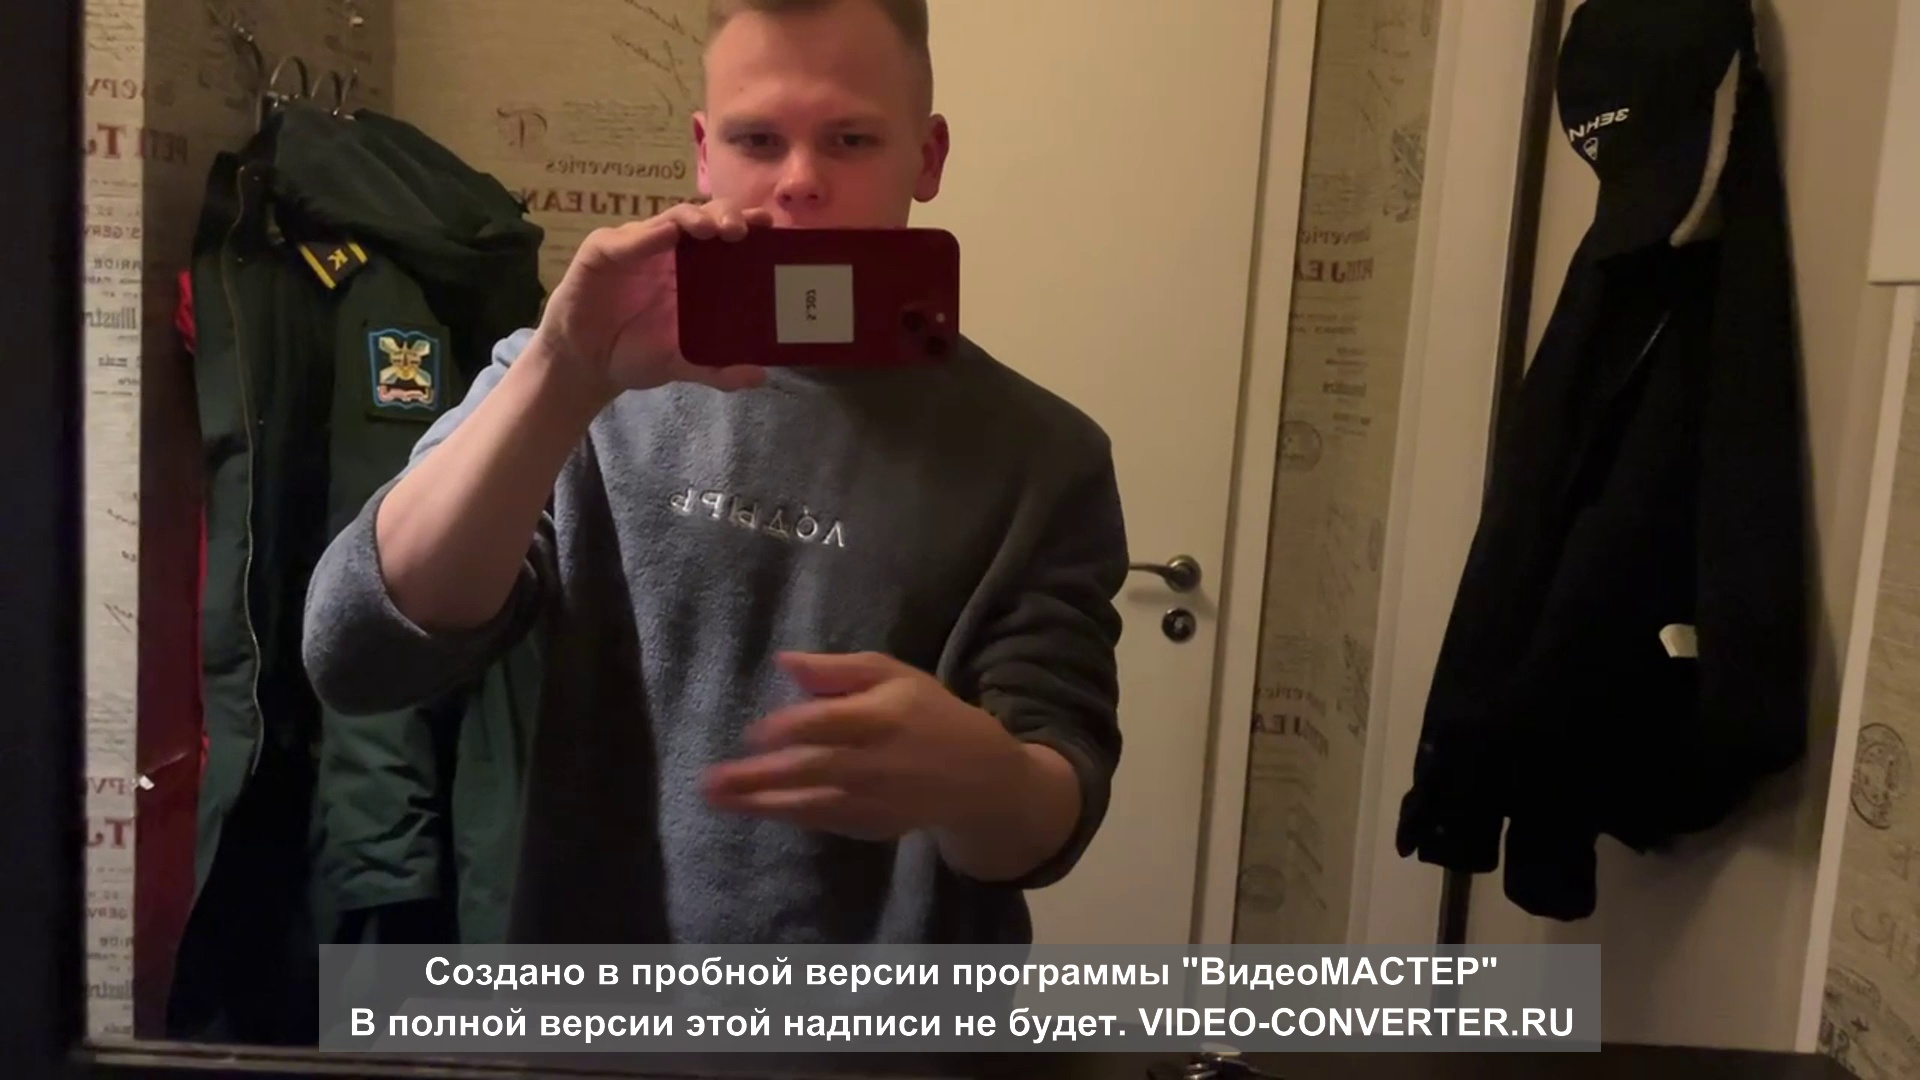Кисть: (709, 647, 1005, 843)
